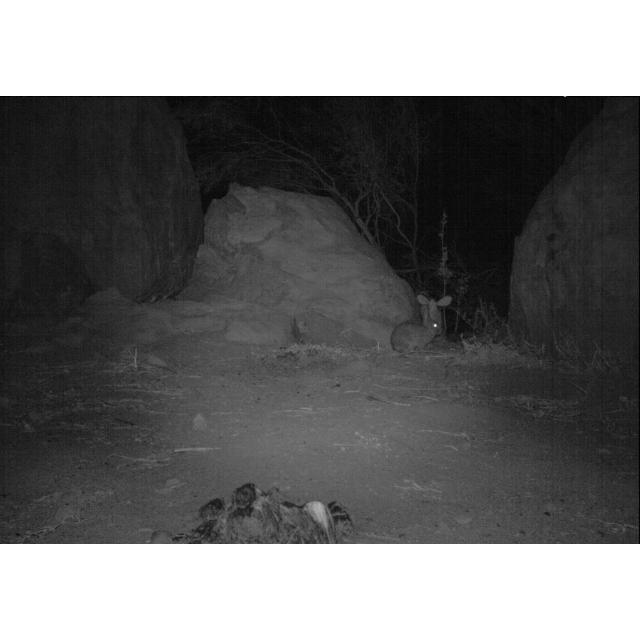animals: (387, 314, 443, 354)
